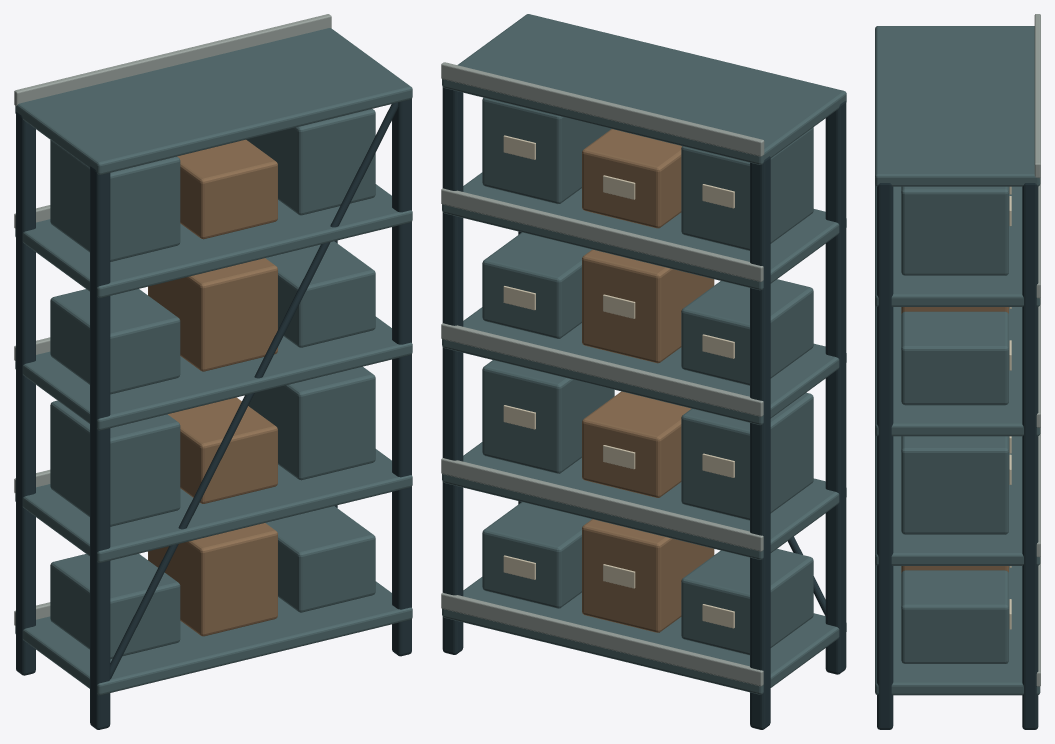
The model's file is shelf.fbx.
The picture shows the model from 3 angles, left to right: view 1: azimuth 30°, elevation 25°; view 2: azimuth 150°, elevation 25°; view 3: azimuth 270°, elevation 25°; orthographic projection. The views are drawn at different scales.
Parts seen in each view (by area): view 1: shelf; view 2: shelf; view 3: shelf.
Boxes of the visible parts, <box> form: shelf: <box>14,14,412,729</box>; shelf: <box>441,14,846,729</box>; shelf: <box>875,14,1040,729</box>.
Bounding box in the file's own units: 143 × 250 × 66.25.
